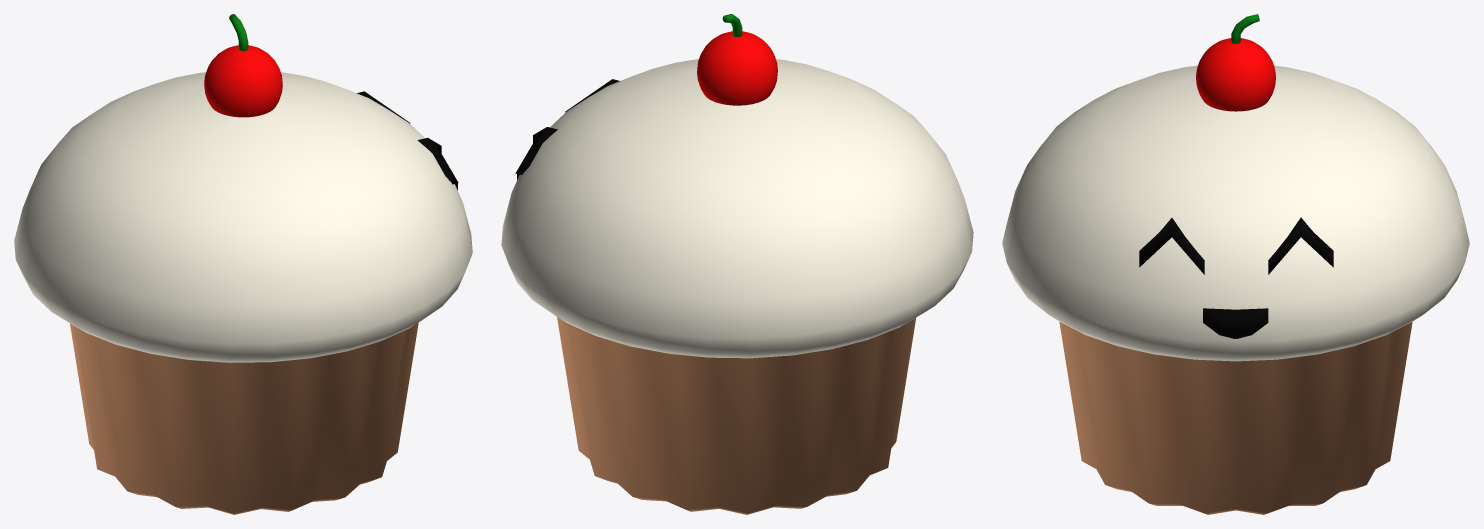
Rendered from cupcake.glb.
3 views of the same model, side by side, from view 1: azimuth 30°, elevation 25°; view 2: azimuth 150°, elevation 25°; view 3: azimuth 270°, elevation 25° (orthographic). The views are drawn at different scales.
Parts seen in each view (by area): view 1: Cylinder; view 2: Cylinder; view 3: Cylinder.
Boxes of the visible parts, left/top/right/bottom form: Cylinder: left=14, top=14, right=472, bottom=514; Cylinder: left=501, top=14, right=973, bottom=514; Cylinder: left=1002, top=14, right=1469, bottom=514.
Bounding box in the file's own units: 2.97 × 3.1 × 2.97.
1 material, 1 textured.
